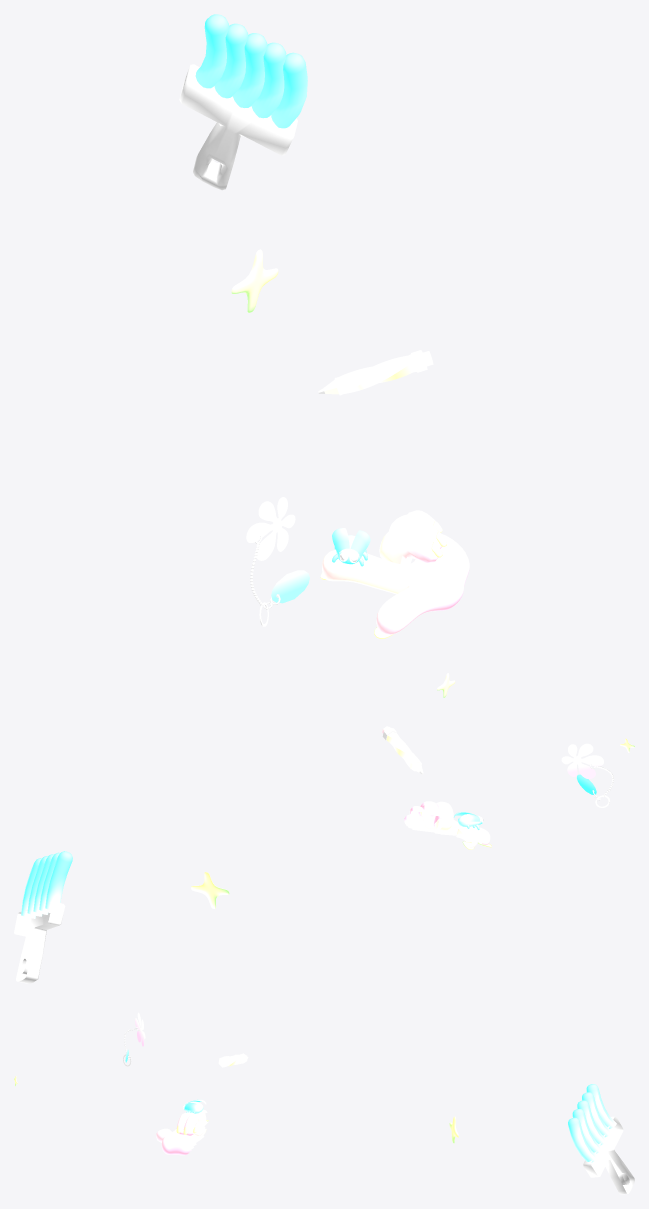
The model's file is hero-scene 1.glb.
3 views of the same model, one above another, from view 1: azimuth 30°, elevation 25°; view 2: azimuth 150°, elevation 25°; view 3: azimuth 270°, elevation 25° (orthographic). The views are drawn at different scales.
Parts seen in each view (by area): view 1: hand, brush-handle, pencil, Cylinder.006, finger-1.002, flower, Cylinder.012, Cylinder.015, Cylinder.014, Cylinder.013, star-2; view 2: brush-handle, hand, flower, Cylinder.012, pencil, star-2, finger-2.002, finger-1.002, Cylinder.006, Cylinder.015, Cylinder.014, Cylinder.013; view 3: brush-handle, hand, Cylinder.006, Cylinder.015, Cylinder.012, Cylinder.013, Cylinder.014, pencil.
Boxes of the visible parts, <box> form: hand: <box>322,534,469,634</box>; brush-handle: <box>179,64,297,190</box>; pencil: <box>318,350,433,395</box>; Cylinder.006: <box>271,52,307,128</box>; finger-1.002: <box>379,525,437,564</box>; flower: <box>246,497,295,560</box>; Cylinder.012: <box>195,14,229,88</box>; Cylinder.015: <box>251,42,286,118</box>; Cylinder.014: <box>233,33,267,107</box>; Cylinder.013: <box>214,23,248,98</box>; star-2: <box>231,249,278,312</box>; brush-handle: <box>14,901,65,983</box>; hand: <box>404,814,490,847</box>; flower: <box>561,743,603,778</box>; Cylinder.012: <box>45,851,72,909</box>; pencil: <box>382,726,423,774</box>; star-2: <box>191,872,229,908</box>; finger-2.002: <box>418,801,439,831</box>; finger-1.002: <box>430,801,453,832</box>; Cylinder.006: <box>21,858,41,918</box>; Cylinder.015: <box>27,856,48,916</box>; Cylinder.014: <box>33,854,54,914</box>; Cylinder.013: <box>39,852,59,912</box>; brush-handle: <box>583,1116,634,1194</box>; hand: <box>156,1109,207,1155</box>; Cylinder.006: <box>568,1117,598,1162</box>; Cylinder.015: <box>572,1109,602,1153</box>; Cylinder.012: <box>586,1084,616,1128</box>; Cylinder.013: <box>582,1092,611,1137</box>; Cylinder.014: <box>577,1100,607,1145</box>; pencil: <box>218,1053,248,1067</box>.
Bounding box in the file's own units: 1.75 × 0.7875 × 3.67.
